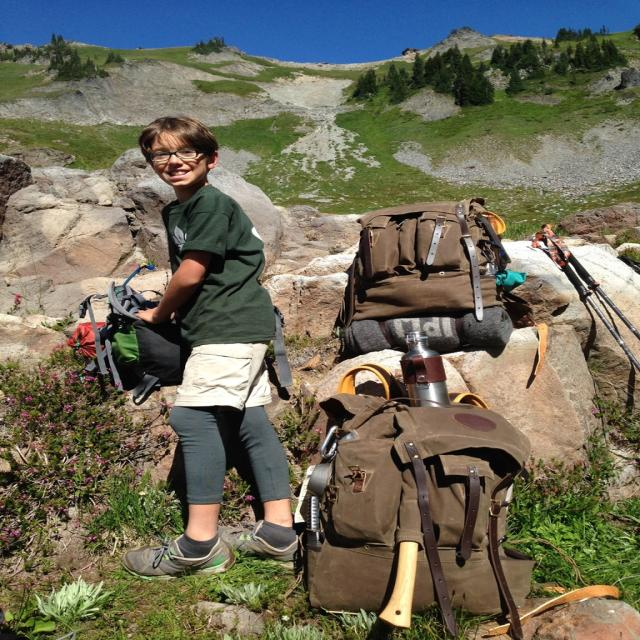backpack: (286, 397, 536, 616), (332, 195, 508, 354)
